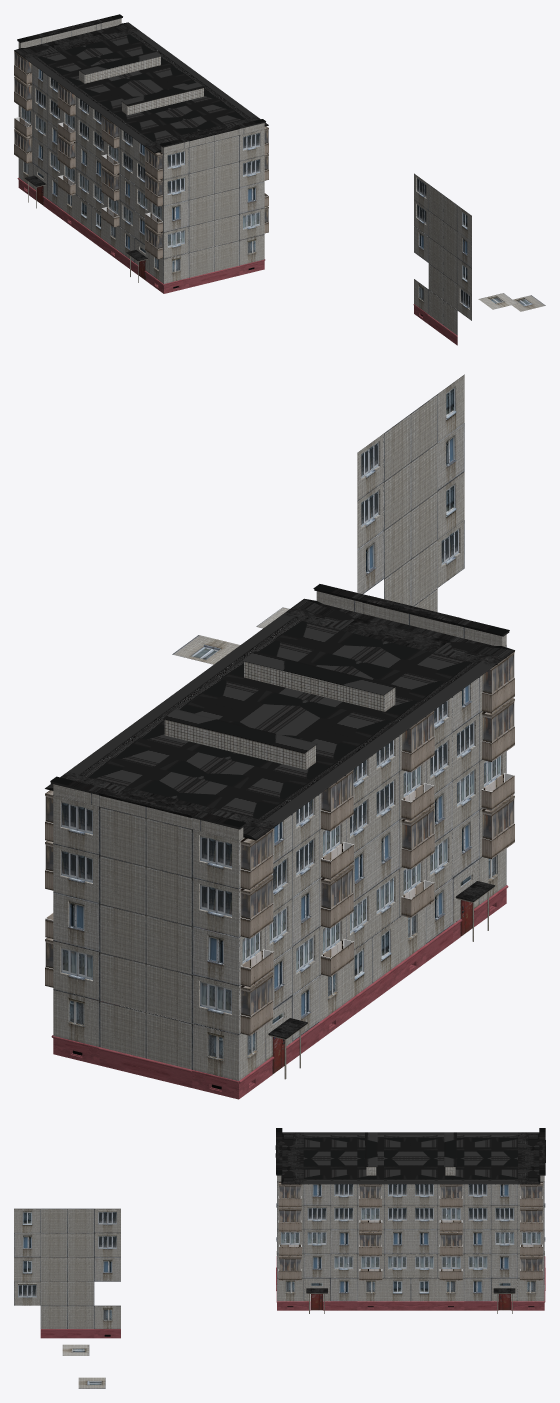
Rendered from DomaExport0.fbx.
The picture shows the model from 3 angles, top to bottom: view 1: azimuth 30°, elevation 25°; view 2: azimuth 150°, elevation 25°; view 3: azimuth 270°, elevation 25°; orthographic projection. The views are drawn at different scales.
Visible parts, largest first — view 1: Window.045, Window.027, Window.031, Window.036, Window.028, Window.030, Window.034, Window.035, Window.039, Window.040, Window.043, Window.044 (+7 smaller); view 2: Window.045, Window.038, Window.028, Window.033, Window.044, Window.034, Window.042, Window.029, Window.030, Window.035, Window.037, Window.039 (+5 smaller); view 3: Window.045, Window.027, Window.031, Window.036, Window.041, Window.042, Window.035, Window.039, Window.046, Window.034, Window.037, Window.043 (+9 smaller).
Part boxes in pixels (x1,y1,x2,y2): Window.045: (14, 14, 268, 293); Window.027: (442, 300, 457, 345); Window.031: (427, 290, 442, 334); Window.036: (413, 279, 428, 324); Window.028: (457, 205, 471, 241); Window.030: (414, 200, 428, 236); Window.034: (428, 184, 442, 220); Window.035: (443, 195, 457, 231); Window.039: (443, 221, 457, 257); Window.040: (414, 226, 428, 262); Window.043: (428, 263, 442, 299); Window.044: (457, 284, 471, 320); Window.045: (45, 584, 514, 1099); Window.038: (437, 471, 464, 539); Window.028: (437, 374, 464, 442); Window.033: (437, 423, 464, 490); Window.044: (437, 520, 464, 587); Window.034: (384, 414, 410, 481); Window.042: (384, 511, 410, 578); Window.029: (357, 433, 383, 500); Window.030: (357, 482, 383, 549); Window.035: (411, 394, 437, 461); Window.037: (384, 462, 410, 529); Window.039: (411, 443, 437, 510); Window.045: (275, 1128, 545, 1313); Window.027: (40, 1305, 67, 1338); Window.031: (67, 1305, 94, 1338); Window.036: (94, 1305, 120, 1338); Window.041: (40, 1257, 67, 1281); Window.042: (67, 1257, 94, 1281); Window.035: (40, 1208, 67, 1232); Window.039: (40, 1233, 67, 1257); Window.046: (40, 1281, 67, 1305); Window.034: (67, 1208, 94, 1232); Window.037: (67, 1233, 94, 1257); Window.043: (67, 1281, 94, 1305).
Size of the model in its own units: 3391 by 1722 by 5959.
77 materials, 73 textured.
